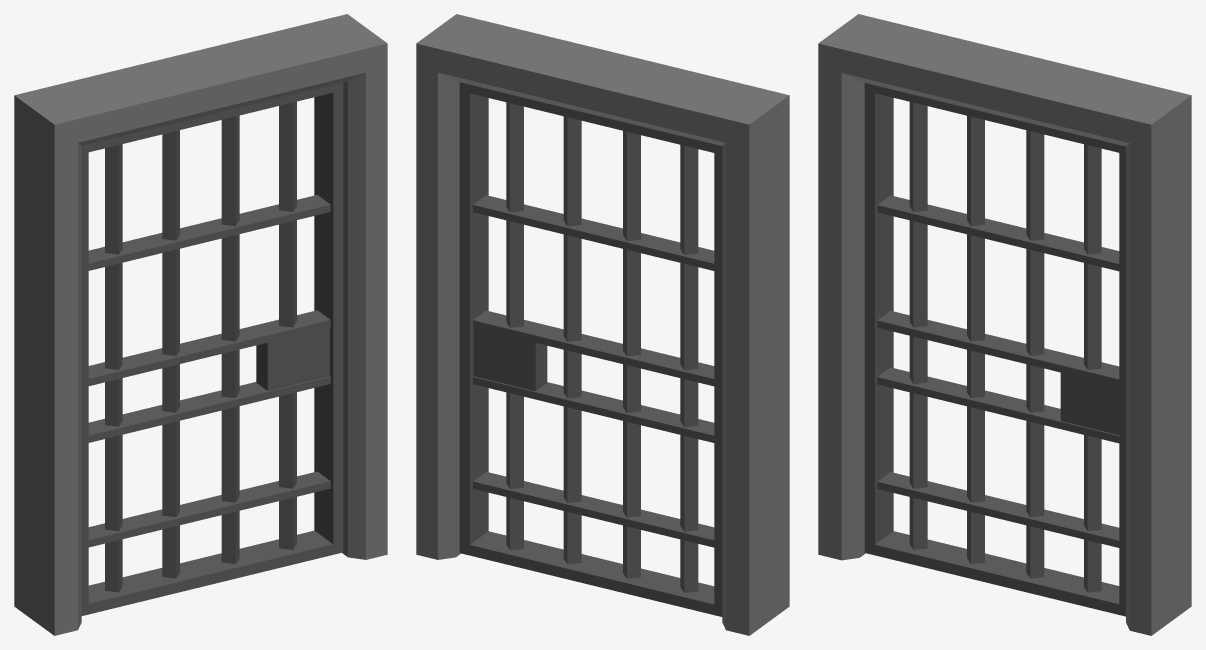
The model's file is CellDoor.glb.
The picture shows the model from 3 angles, left to right: view 1: azimuth 30°, elevation 25°; view 2: azimuth 150°, elevation 25°; view 3: azimuth 330°, elevation 25°; orthographic projection.
Visible parts, largest first — view 1: Cube, Cube.001; view 2: Cube, Cube.001; view 3: Cube, Cube.001.
Boxes of the visible parts, left/top/right/bottom form: Cube: left=14, top=14, right=387, bottom=635; Cube.001: left=81, top=82, right=343, bottom=615; Cube: left=416, top=14, right=789, bottom=635; Cube.001: left=459, top=82, right=722, bottom=616; Cube: left=818, top=14, right=1191, bottom=635; Cube.001: left=864, top=83, right=1125, bottom=616.
Bounding box in the file's own units: 1.57 × 2.3 × 0.3282.
Materials: 1 (1 with a texture image).
